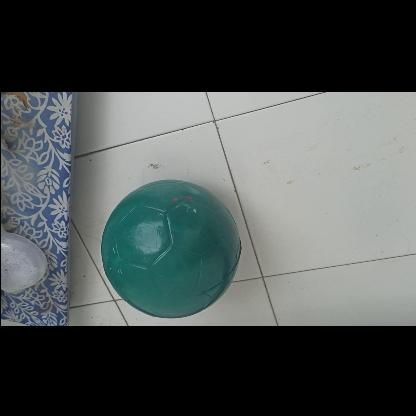green_ball: (98, 176, 240, 318)
